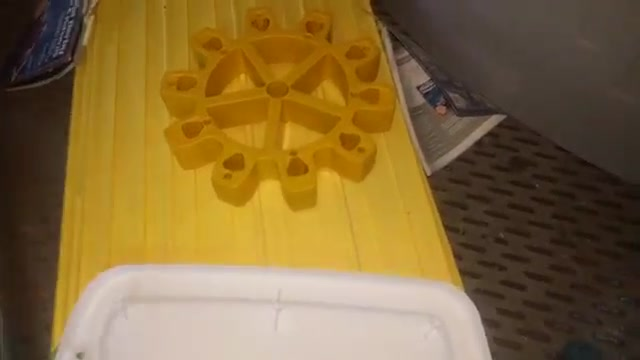gear: (156, 1, 404, 214)
